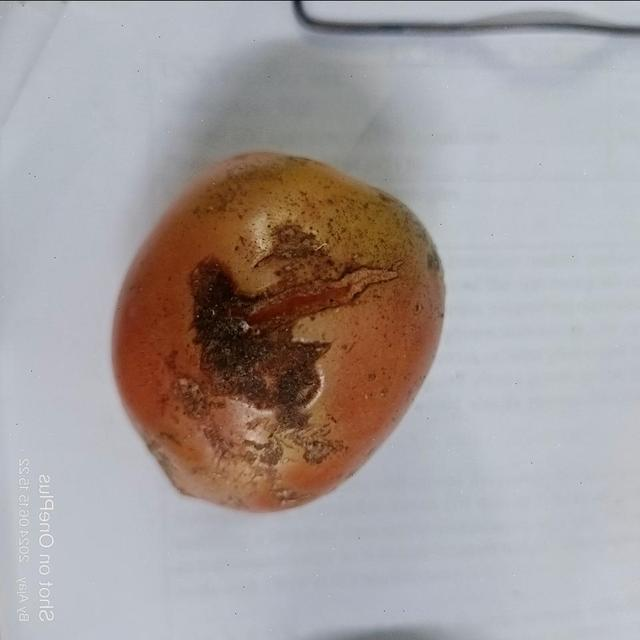Cracking Fruit: (114, 142, 337, 371)
